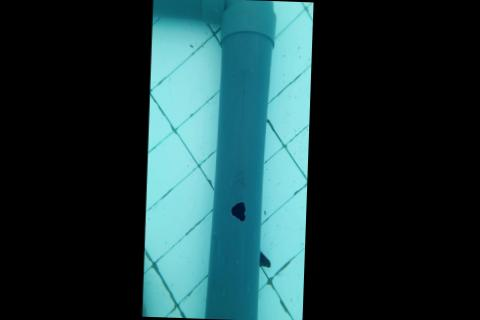kebocoran: (229, 200, 246, 223)
